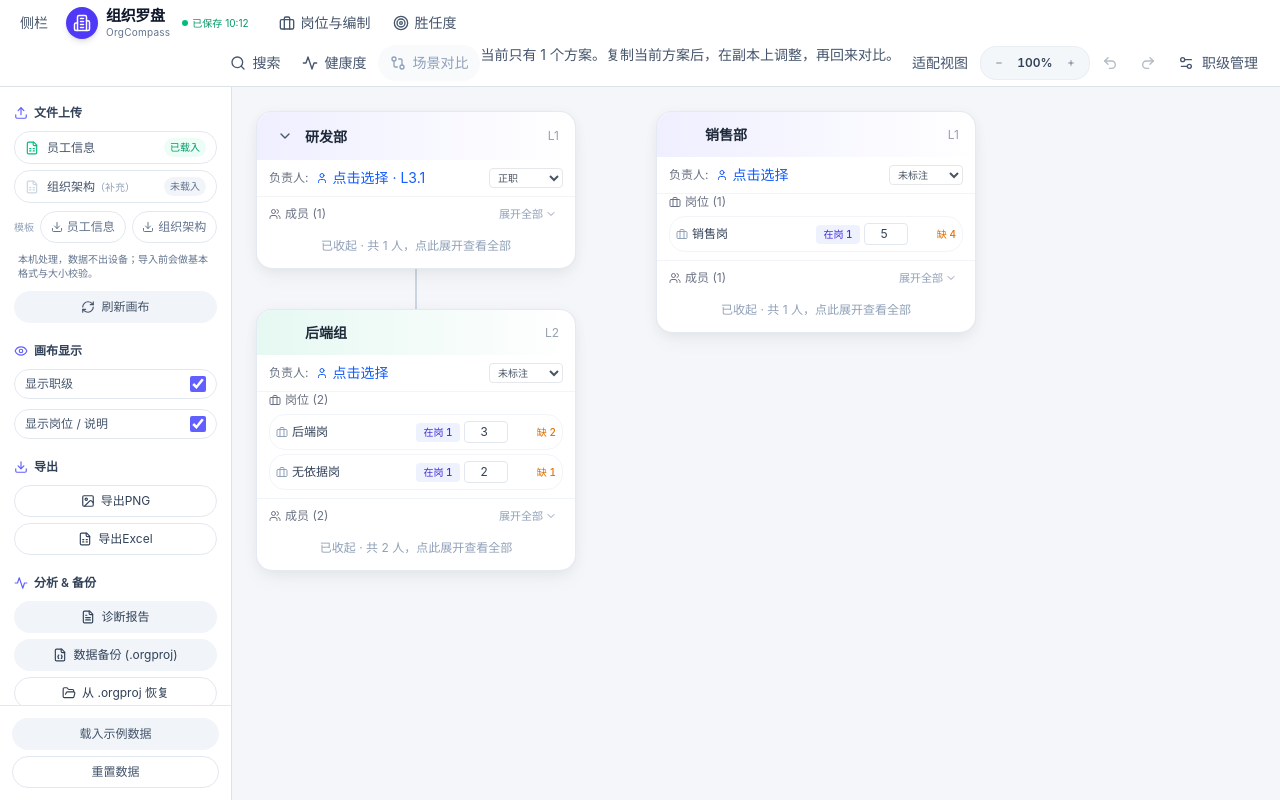
Test: M4 岗位缺口清单：当前场景直读与导出 › v2.3.1 T-01：导出失败必须给出可见错误提示，不得静默
Click the button "岗位与编制".
click(325, 23)  # box [269,5,381,41]
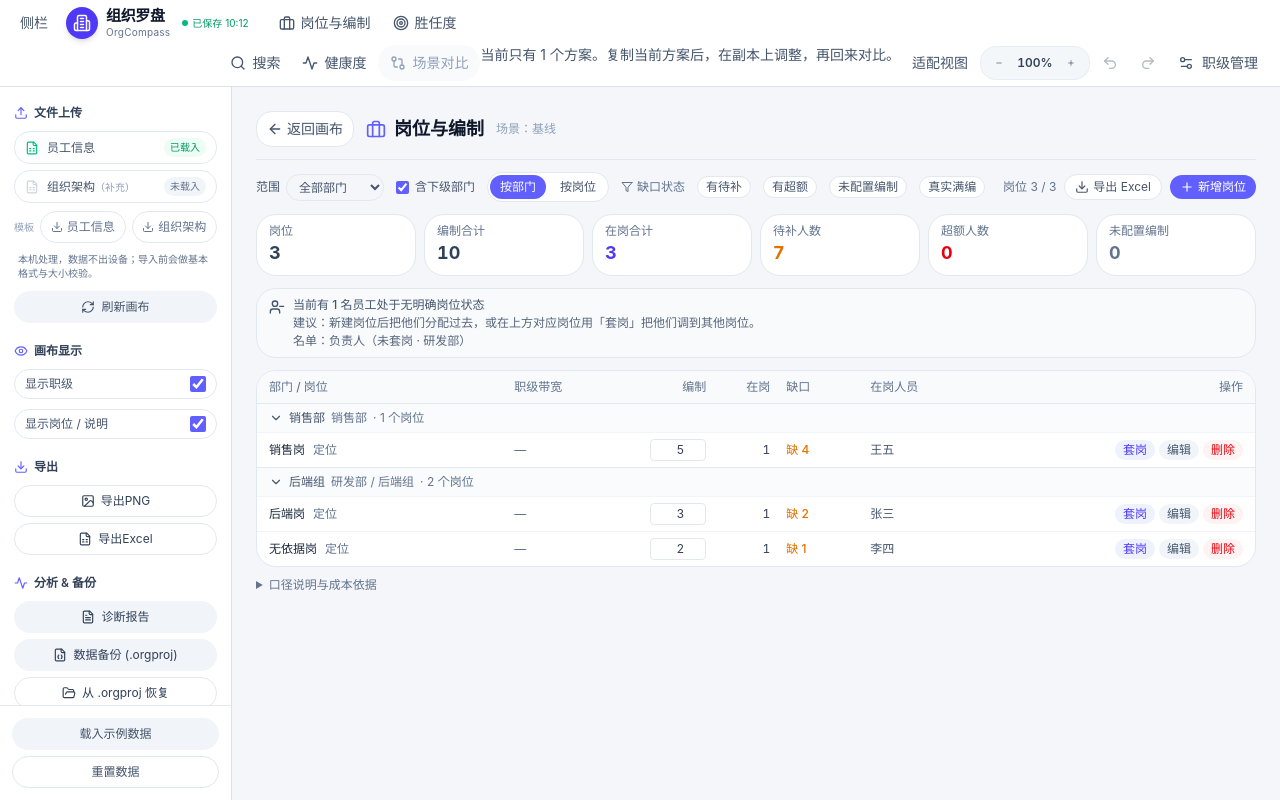
Click the button "导出 Excel".
click(1113, 187)  # box [1064,174,1162,200]
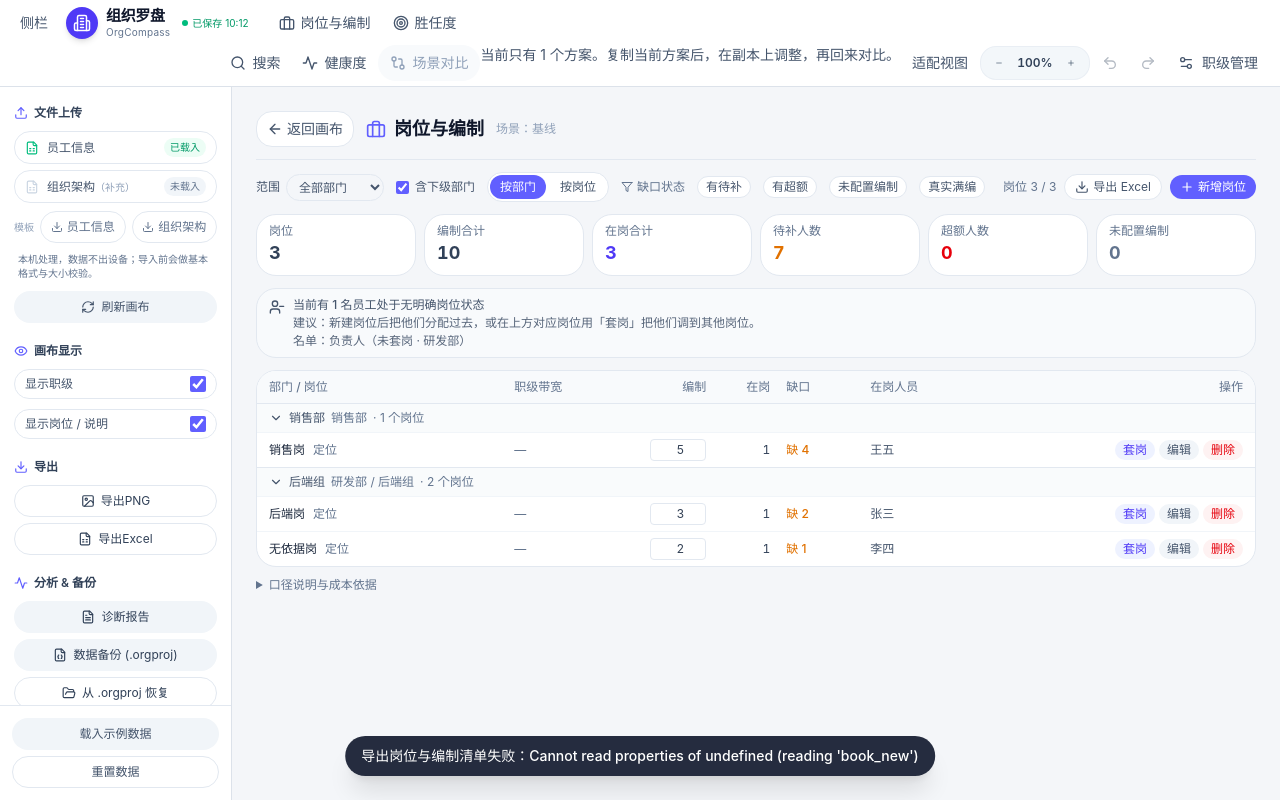
Expected: the message shows "导出岗位与编制清单失败", [361,747,919,764]
